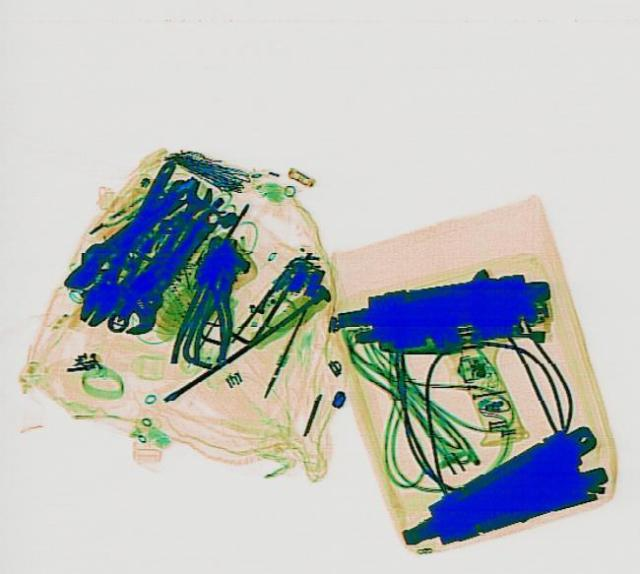Pliers: (186, 256, 246, 364)
Wrench: (70, 152, 184, 326), (48, 173, 204, 293), (103, 199, 234, 339)
